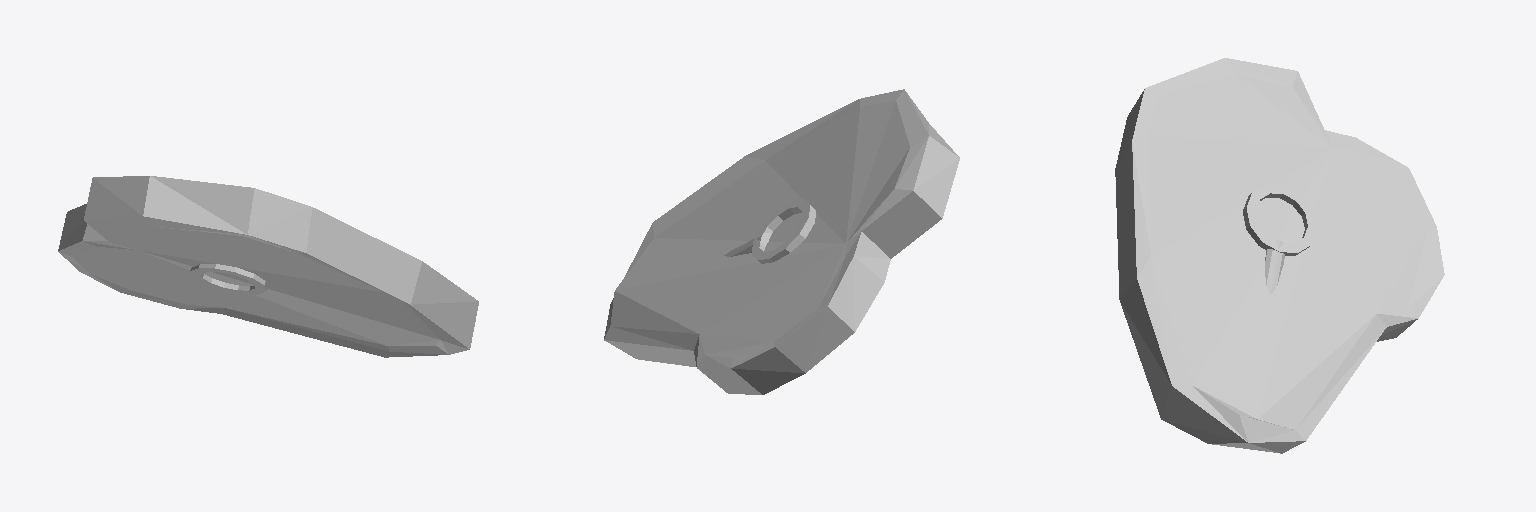
The model's file is cookedmeat.obj.
The picture shows the model from 3 angles: view 1: azimuth 30°, elevation 25°; view 2: azimuth 150°, elevation 25°; view 3: azimuth 270°, elevation 25°; orthographic projection.
Visible parts, largest first — view 1: group[number redacted]; view 2: group[number redacted]; view 3: group[number redacted], group[number redacted].
Boxes of the visible parts, x1=… form: group[number redacted]: x1=58, y1=176, x2=478, y2=357; group[number redacted]: x1=604, y1=89, x2=959, y2=394; group[number redacted]: x1=1115, y1=58, x2=1444, y2=453; group[number redacted]: x1=1265, y1=240, x2=1284, y2=294.
Bounding box in the file's own units: 0.3576 × 0.2645 × 0.2941.